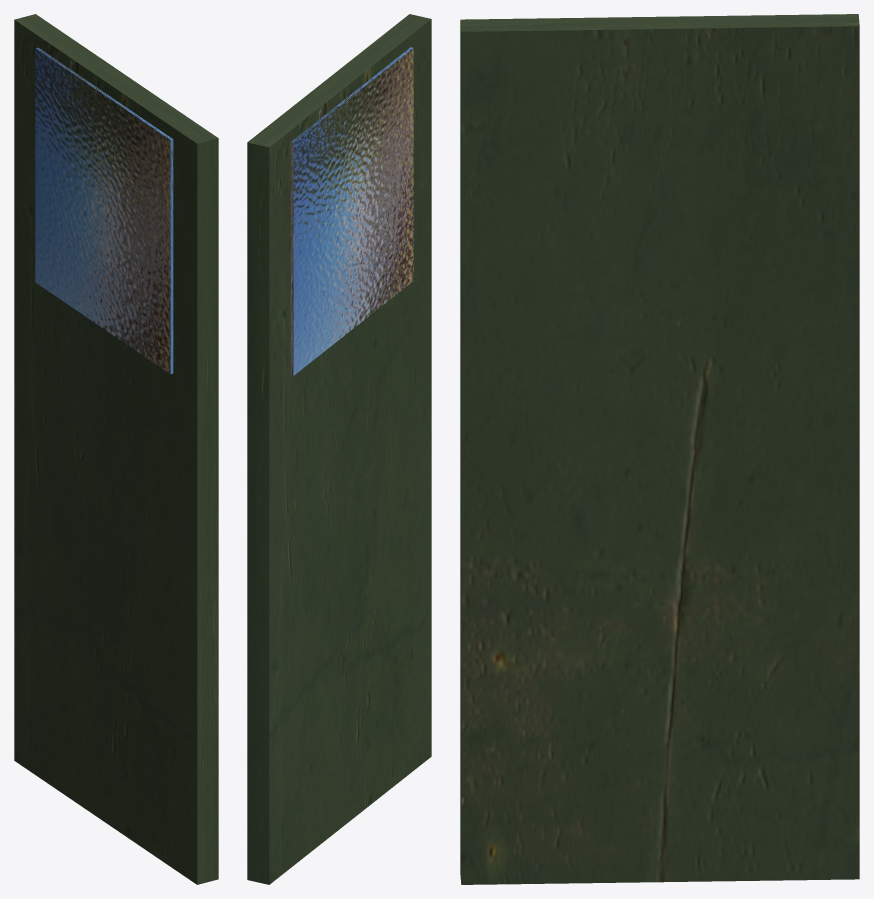
Rendered from puerta.glb.
3 renders of one model, left to right at view 1: azimuth 30°, elevation 25°; view 2: azimuth 150°, elevation 25°; view 3: azimuth 270°, elevation 25°, orthographic. The views are drawn at different scales.
Parts seen in each view (by area): view 1: Cube.012; view 2: Cube.012; view 3: Cube.012.
Part boxes in pixels (x1=…): Cube.012: x1=14, y1=14, x2=218, y2=884; Cube.012: x1=247, y1=14, x2=431, y2=884; Cube.012: x1=460, y1=14, x2=859, y2=884.
Size of the model in its own units: 0.2188 by 4.64 by 1.97.
Materials: 2 (2 with a texture image).
